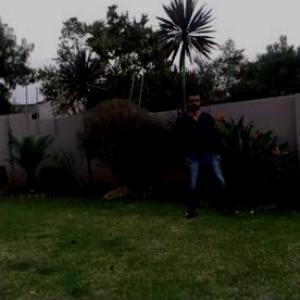follow: (177, 86, 215, 215)
